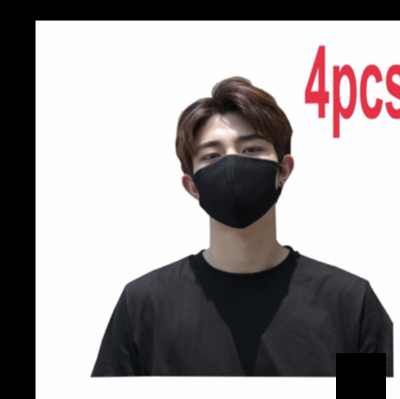with_mask: (192, 128, 279, 228)
